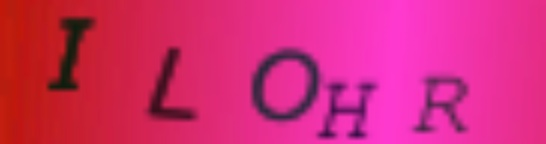H: (316, 80, 383, 144)
I: (45, 11, 97, 95)
L: (141, 43, 204, 124)
O: (247, 44, 325, 121)
R: (409, 73, 475, 136)
